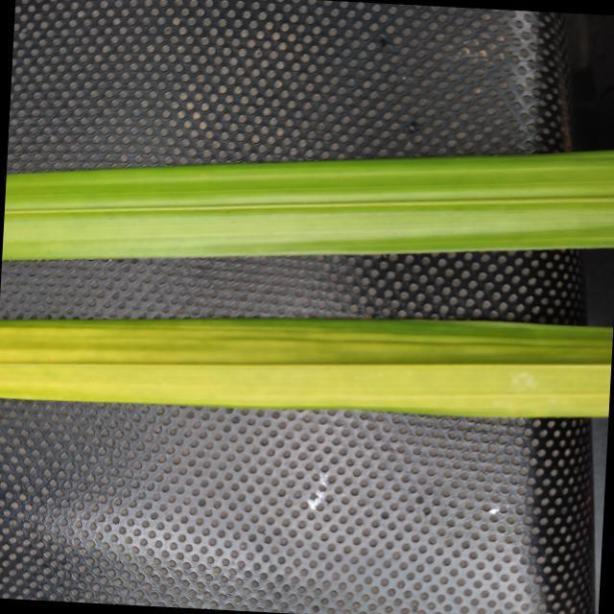nitrogen: (0, 308, 614, 424), (5, 149, 614, 264)
